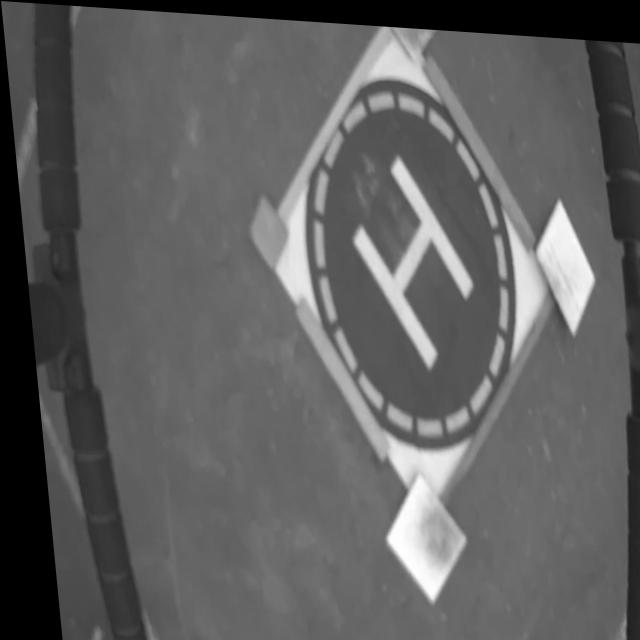Helipad: (347, 147, 467, 362)
